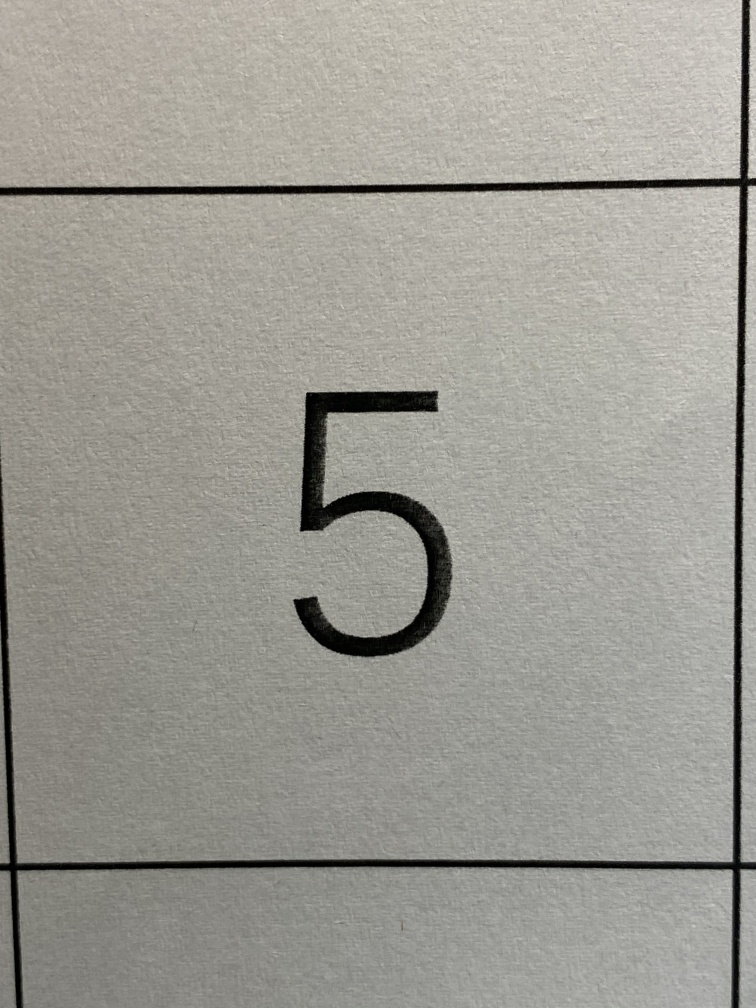five: (231, 333, 524, 717)
